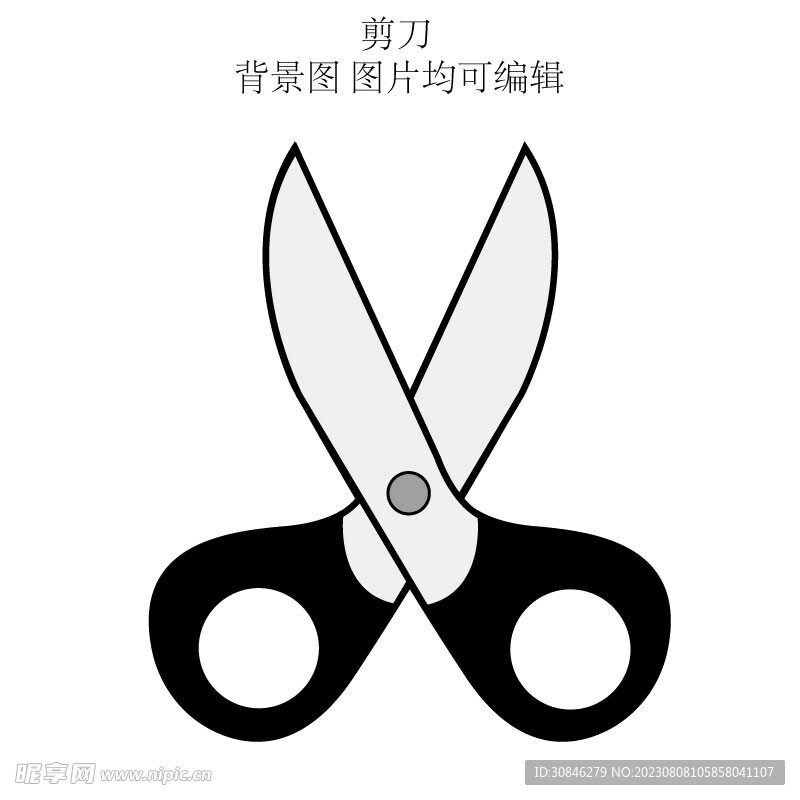scissors: (137, 129, 692, 744)
